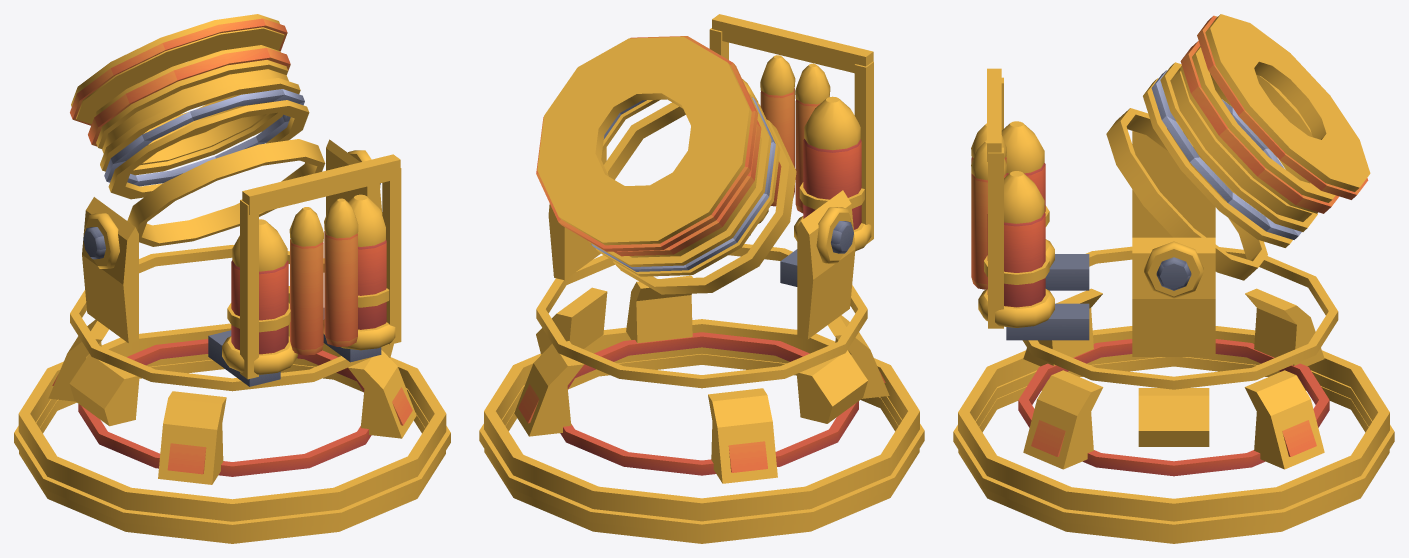
The model's file is mortar_upgrades.glb.
The picture shows the model from 3 angles, left to right: view 1: azimuth 30°, elevation 25°; view 2: azimuth 150°, elevation 25°; view 3: azimuth 270°, elevation 25°; orthographic projection.
Visible parts, largest first — view 1: mortar_upgrade_l2_base, mortar_upgrade_l7_pitch, mortar_upgrade_l8_base, mortar_upgrade_l4_base, mortar_upgrade_l7_yaw, mortar_upgrade_l8_yaw, mortar_upgrade_l6_yaw, mortar_upgrade_l8_pitch, mortar_upgrade_l2_pitch, mortar_upgrade_l4_yaw, mortar_upgrade_l5_pitch, mortar_upgrade_l7_base (+5 smaller); view 2: mortar_upgrade_l8_pitch, mortar_upgrade_l2_base, mortar_upgrade_l8_base, mortar_upgrade_l4_base, mortar_upgrade_l4_yaw, mortar_upgrade_l7_base, mortar_upgrade_l7_yaw, mortar_upgrade_l2_yaw, mortar_upgrade_l6_base, mortar_upgrade_l6_yaw, mortar_upgrade_l2_pitch, mortar_upgrade_l7_pitch (+5 smaller); view 3: mortar_upgrade_l2_base, mortar_upgrade_l4_base, mortar_upgrade_l8_pitch, mortar_upgrade_l8_base, mortar_upgrade_l4_yaw, mortar_upgrade_l7_pitch, mortar_upgrade_l6_yaw, mortar_upgrade_l5_pitch, mortar_upgrade_l2_yaw, mortar_upgrade_l6_base, mortar_upgrade_l7_base, mortar_upgrade_l2_pitch (+5 smaller).
Boxes of the visible parts, left/top/right/bottom form: mortar_upgrade_l2_base: left=18, top=323, right=446, bottom=521; mortar_upgrade_l7_pitch: left=100, top=78, right=309, bottom=199; mortar_upgrade_l8_base: left=14, top=344, right=450, bottom=534; mortar_upgrade_l4_base: left=48, top=286, right=416, bottom=484; mortar_upgrade_l7_yaw: left=240, top=154, right=401, bottom=379; mortar_upgrade_l8_yaw: left=289, top=198, right=358, bottom=355; mortar_upgrade_l6_yaw: left=227, top=194, right=389, bottom=354; mortar_upgrade_l8_pitch: left=70, top=14, right=287, bottom=125; mortar_upgrade_l2_pitch: left=127, top=139, right=325, bottom=246; mortar_upgrade_l4_yaw: left=82, top=139, right=382, bottom=343; mortar_upgrade_l5_pitch: left=88, top=45, right=290, bottom=148; mortar_upgrade_l7_base: left=78, top=339, right=371, bottom=476; mortar_upgrade_l8_pitch: left=536, top=36, right=757, bottom=251; mortar_upgrade_l2_base: left=484, top=319, right=919, bottom=521; mortar_upgrade_l8_base: left=479, top=287, right=924, bottom=534; mortar_upgrade_l4_base: left=514, top=275, right=889, bottom=483; mortar_upgrade_l4_yaw: left=548, top=147, right=855, bottom=339; mortar_upgrade_l7_base: left=560, top=332, right=858, bottom=475; mortar_upgrade_l7_yaw: left=709, top=14, right=873, bottom=243; mortar_upgrade_l2_yaw: left=536, top=244, right=867, bottom=388; mortar_upgrade_l6_base: left=484, top=354, right=919, bottom=543; mortar_upgrade_l6_yaw: left=742, top=79, right=864, bottom=229; mortar_upgrade_l2_pitch: left=604, top=102, right=796, bottom=294; mortar_upgrade_l7_pitch: left=588, top=93, right=780, bottom=276; mortar_upgrade_l2_base: left=958, top=326, right=1389, bottom=521; mortar_upgrade_l4_base: left=1023, top=288, right=1324, bottom=469; mortar_upgrade_l8_pitch: left=1197, top=14, right=1370, bottom=199; mortar_upgrade_l8_base: left=953, top=354, right=1394, bottom=534; mortar_upgrade_l4_yaw: left=1132, top=121, right=1215, bottom=356; mortar_upgrade_l7_pitch: left=1143, top=62, right=1317, bottom=247; mortar_upgrade_l6_yaw: left=984, top=121, right=1049, bottom=307; mortar_upgrade_l5_pitch: left=1180, top=41, right=1339, bottom=213; mortar_upgrade_l2_yaw: left=1022, top=246, right=1338, bottom=389; mortar_upgrade_l6_base: left=958, top=357, right=1389, bottom=543; mortar_upgrade_l7_base: left=1018, top=339, right=1329, bottom=476; mortar_upgrade_l2_pitch: left=1106, top=108, right=1267, bottom=280.
Size of the model in its own units: 1.28 by 1.36 by 1.28.
Materials: 1 (1 with a texture image).
